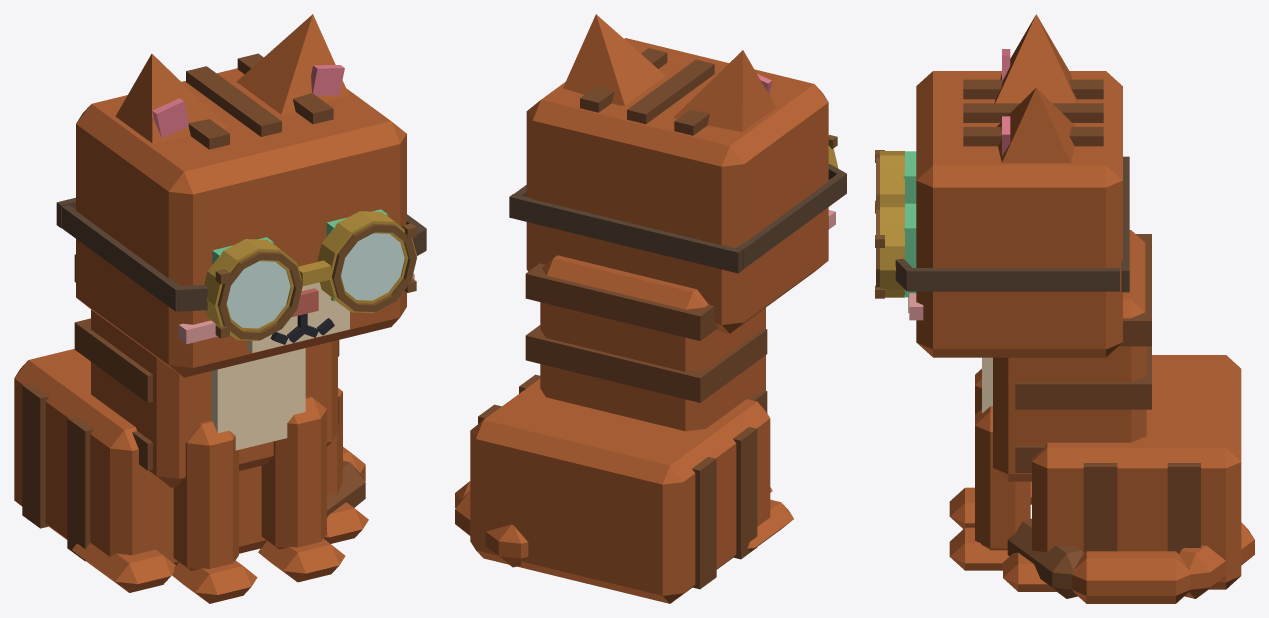
File: CatCafe_Cat_Gears_Sit.glb
3 renders of one model, left to right at view 1: azimuth 30°, elevation 25°; view 2: azimuth 150°, elevation 25°; view 3: azimuth 270°, elevation 25°, orthographic. The views are drawn at different scales.
Visible parts, largest first — view 1: CatCafe_Cat_Gears_Sit_Head, CatCafe_Cat_Gears_Sit_Body, CatCafe_Cat_Gears_Sit_Prop, CatCafe_Cat_Gears_Sit_LegF2, CatCafe_Cat_Gears_Sit_LegF1, CatCafe_Cat_Gears_Sit_Prop_Glass, CatCafe_Cat_Gears_Sit_EarL, CatCafe_Cat_Gears_Sit_EarR, CatCafe_Cat_Gears_Sit_Tail; view 2: CatCafe_Cat_Gears_Sit_Body, CatCafe_Cat_Gears_Sit_Head, CatCafe_Cat_Gears_Sit_Prop, CatCafe_Cat_Gears_Sit_EarL, CatCafe_Cat_Gears_Sit_EarR, CatCafe_Cat_Gears_Sit_Tail; view 3: CatCafe_Cat_Gears_Sit_Body, CatCafe_Cat_Gears_Sit_Head, CatCafe_Cat_Gears_Sit_Prop, CatCafe_Cat_Gears_Sit_Tail, CatCafe_Cat_Gears_Sit_LegF1, CatCafe_Cat_Gears_Sit_EarR, CatCafe_Cat_Gears_Sit_EarL, CatCafe_Cat_Gears_Sit_LegF2, CatCafe_Cat_Gears_Sit_Eye1, CatCafe_Cat_Gears_Sit_Eye2.
Boxes of the visible parts, x1,y1,x2,y2 form: CatCafe_Cat_Gears_Sit_Head: [76, 53, 414, 377]; CatCafe_Cat_Gears_Sit_Body: [14, 254, 368, 592]; CatCafe_Cat_Gears_Sit_Prop: [56, 197, 426, 340]; CatCafe_Cat_Gears_Sit_LegF2: [172, 421, 257, 603]; CatCafe_Cat_Gears_Sit_LegF1: [258, 396, 345, 582]; CatCafe_Cat_Gears_Sit_Prop_Glass: [227, 233, 404, 328]; CatCafe_Cat_Gears_Sit_EarL: [236, 14, 348, 114]; CatCafe_Cat_Gears_Sit_EarR: [115, 53, 227, 143]; CatCafe_Cat_Gears_Sit_Tail: [327, 447, 365, 517]; CatCafe_Cat_Gears_Sit_Body: [470, 255, 793, 603]; CatCafe_Cat_Gears_Sit_Head: [526, 38, 835, 333]; CatCafe_Cat_Gears_Sit_Prop: [509, 135, 846, 273]; CatCafe_Cat_Gears_Sit_EarL: [563, 14, 665, 105]; CatCafe_Cat_Gears_Sit_EarR: [673, 50, 775, 131]; CatCafe_Cat_Gears_Sit_Tail: [455, 481, 528, 567]; CatCafe_Cat_Gears_Sit_Body: [982, 230, 1241, 591]; CatCafe_Cat_Gears_Sit_Head: [908, 71, 1122, 357]; CatCafe_Cat_Gears_Sit_Prop: [875, 150, 1129, 298]; CatCafe_Cat_Gears_Sit_Tail: [1007, 518, 1254, 603]; CatCafe_Cat_Gears_Sit_LegF1: [949, 406, 1030, 570]; CatCafe_Cat_Gears_Sit_EarR: [994, 14, 1077, 103]; CatCafe_Cat_Gears_Sit_EarL: [997, 87, 1075, 162]; CatCafe_Cat_Gears_Sit_LegF2: [949, 369, 981, 528]; CatCafe_Cat_Gears_Sit_Eye1: [903, 203, 916, 297]; CatCafe_Cat_Gears_Sit_Eye2: [903, 151, 916, 203].
Bounding box in the file's own units: 1.05 × 1.85 × 1.29.
Materials: 1 (1 with a texture image).
